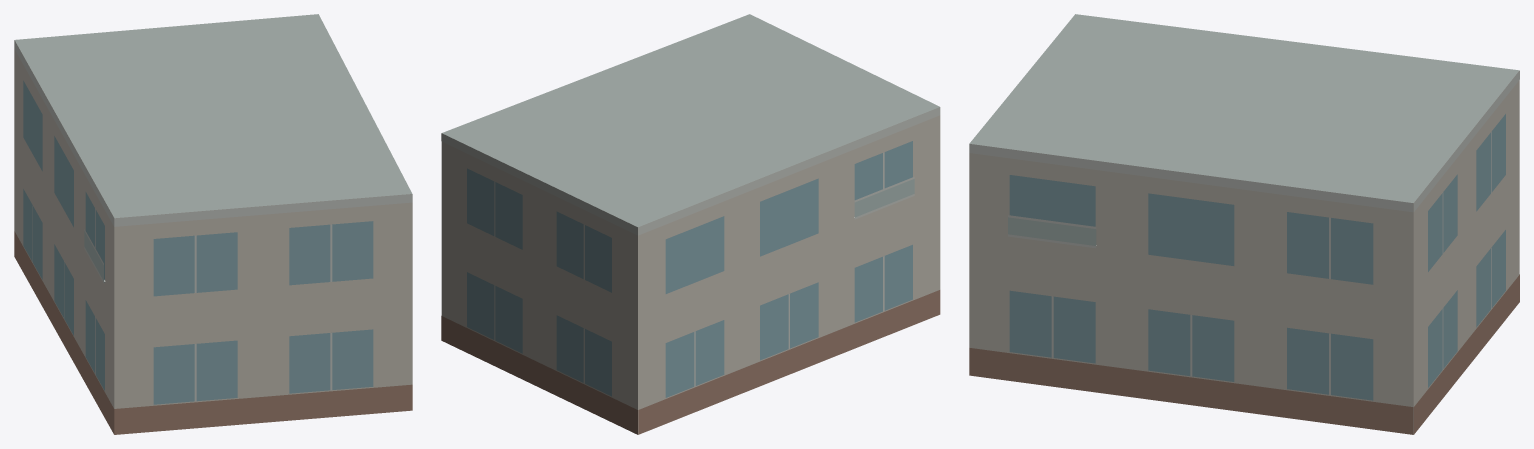
File: survey-upis-32790999.glb
The picture shows the model from 3 angles, left to right: view 1: azimuth 30°, elevation 25°; view 2: azimuth 150°, elevation 25°; view 3: azimuth 270°, elevation 25°; orthographic projection. The views are drawn at different scales.
Parts seen in each view (by area): view 1: survey-upis-32790999.tmp; view 2: survey-upis-32790999.tmp; view 3: survey-upis-32790999.tmp.
Boxes of the visible parts, left/top/right/bottom form: survey-upis-32790999.tmp: left=14, top=14, right=412, bottom=434; survey-upis-32790999.tmp: left=441, top=14, right=940, bottom=434; survey-upis-32790999.tmp: left=969, top=14, right=1519, bottom=434.
Bounding box in the file's own units: 10.69 × 6.1 × 13.15.
